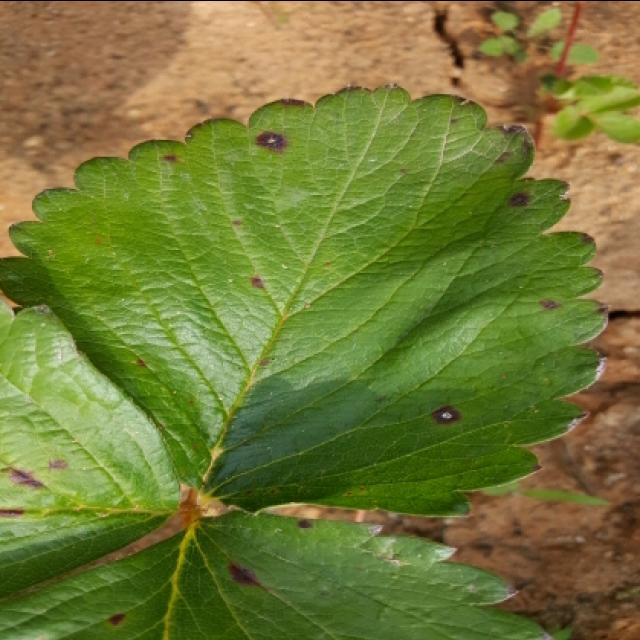Leaf Spot: (0, 81, 610, 518), (0, 509, 554, 640), (0, 293, 185, 597)
